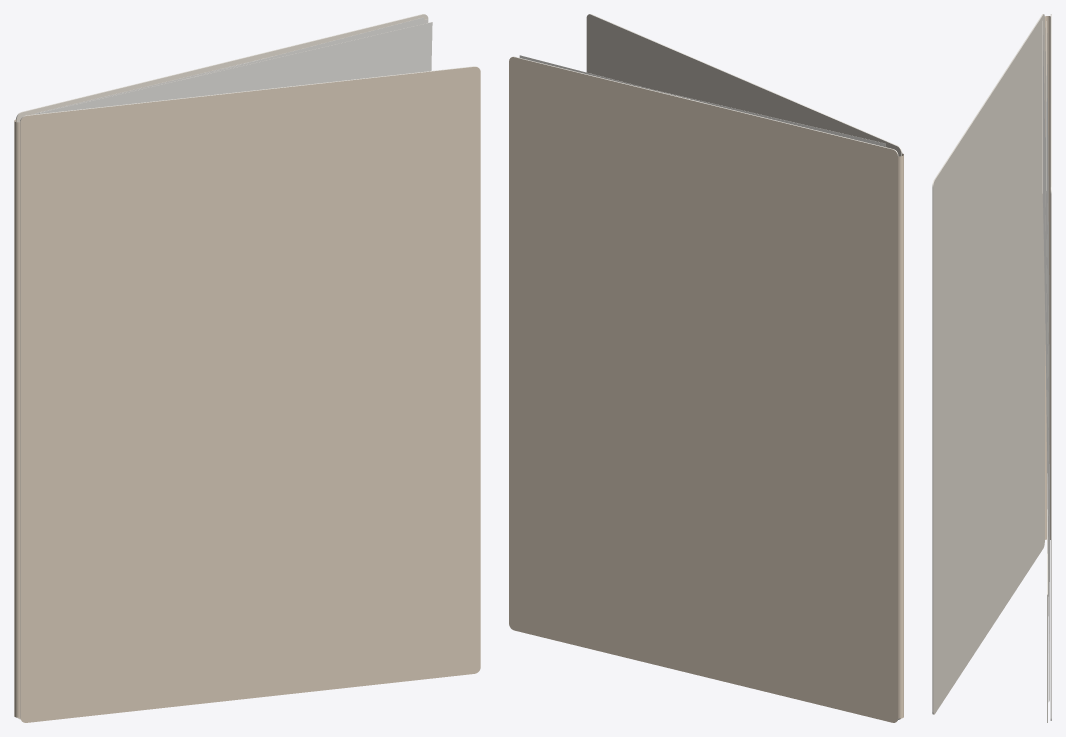
The model's file is folder.glb.
3 renders of one model, left to right at view 1: azimuth 30°, elevation 25°; view 2: azimuth 150°, elevation 25°; view 3: azimuth 270°, elevation 25°, orthographic. The views are drawn at different scales.
Visible parts, largest first — view 1: folder_front, folder_sheet_0, folder_spine, folder_back, folder_sheet_1; view 2: folder_back, folder_front, folder_spine, folder_sheet_0; view 3: folder_front, folder_spine, folder_sheet_0, folder_back, folder_sheet_2, folder_sheet_1, folder_pocket.
Part boxes in pixels (box(x1,y1,x2,y2)): folder_front: box(20, 66, 480, 722); folder_sheet_0: box(39, 22, 432, 113); folder_spine: box(14, 119, 20, 717); folder_back: box(16, 14, 428, 719); folder_sheet_1: box(185, 17, 423, 79); folder_back: box(509, 56, 898, 722); folder_front: box(586, 14, 902, 719); folder_spine: box(898, 153, 903, 718); folder_sheet_0: box(659, 91, 885, 146); folder_front: box(932, 14, 1044, 714); folder_spine: box(1045, 16, 1050, 539); folder_sheet_0: box(1042, 21, 1048, 701); folder_back: box(1050, 14, 1051, 720); folder_sheet_2: box(1046, 21, 1049, 701); folder_sheet_1: box(1045, 28, 1049, 700); folder_pocket: box(1047, 473, 1047, 722).
Bounding box in the file's own units: 0.222 × 0.31 × 0.0629.
